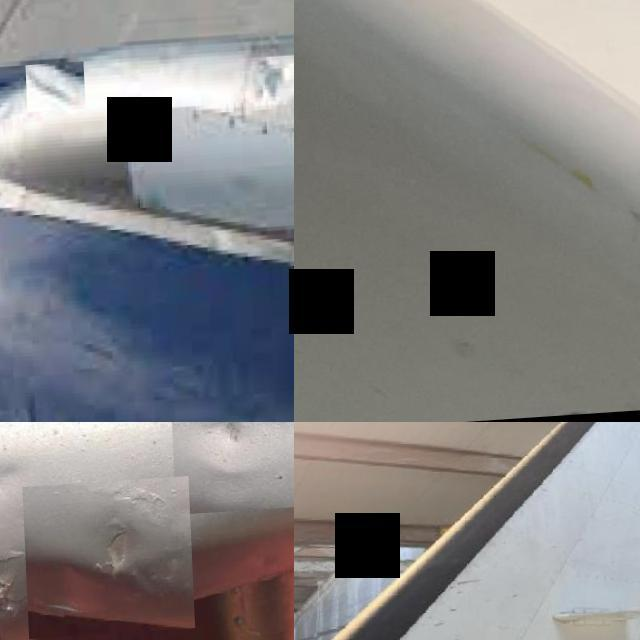Dent: (18, 479, 190, 640), (166, 422, 294, 517), (243, 61, 294, 114), (24, 66, 82, 111)
Missing_Fastener: (540, 409, 585, 422)
